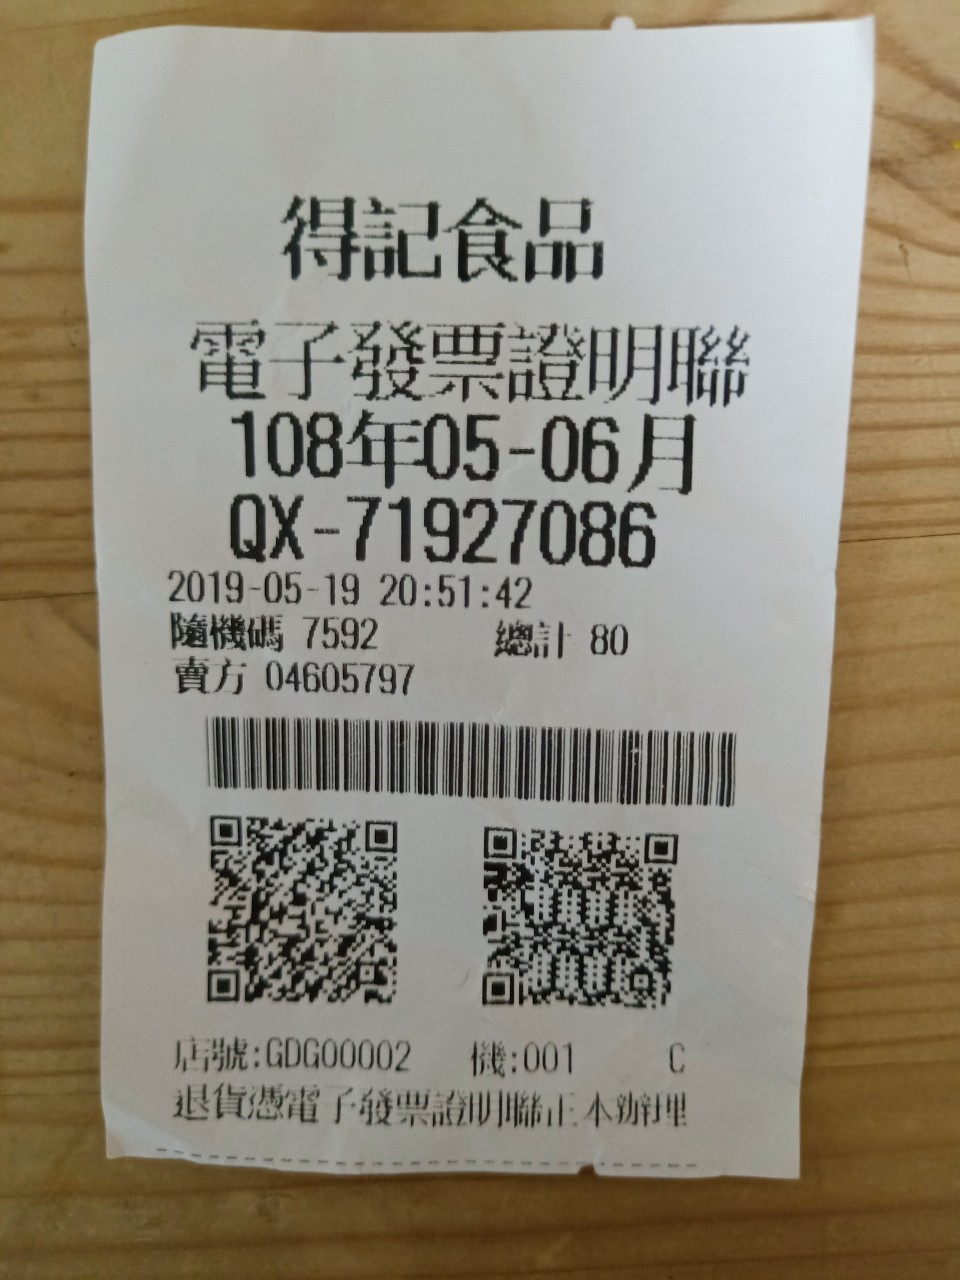Date_New: (230, 401, 703, 497)
Number_New: (346, 487, 663, 567)
